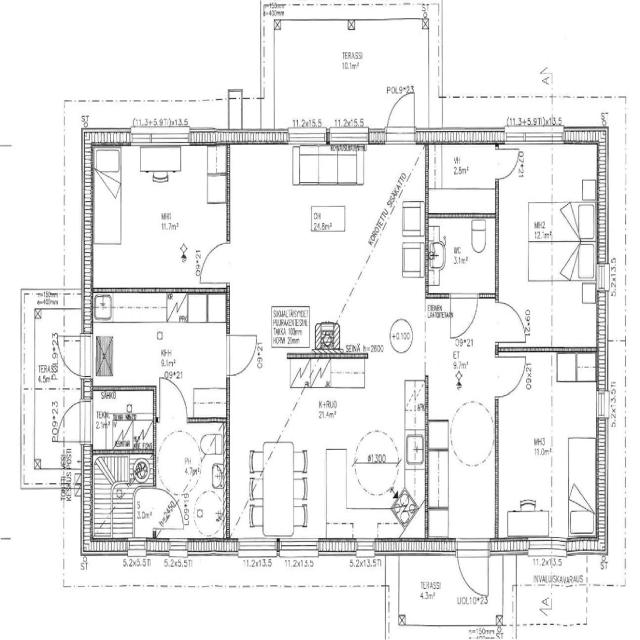door: (453, 534, 492, 602), (222, 328, 262, 379), (156, 373, 192, 427), (384, 88, 417, 146), (492, 298, 528, 351), (197, 235, 234, 286), (54, 330, 91, 380), (492, 351, 528, 400), (447, 290, 479, 342), (56, 398, 88, 447), (493, 144, 522, 182)
window: (132, 127, 192, 148), (510, 125, 566, 147), (276, 536, 322, 562), (235, 535, 281, 560), (328, 125, 370, 149), (286, 125, 329, 148), (352, 534, 378, 558), (593, 386, 609, 424), (168, 537, 190, 555)
zone: (228, 141, 427, 543), (495, 141, 598, 349), (88, 144, 228, 290), (494, 349, 595, 540), (427, 292, 495, 538), (90, 289, 228, 389), (156, 422, 227, 536), (89, 451, 157, 547), (426, 214, 498, 299), (426, 141, 499, 216), (89, 386, 158, 454), (566, 436, 600, 540), (152, 373, 190, 426), (446, 288, 479, 344)
